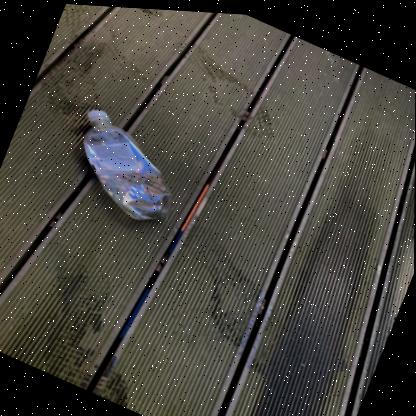Plastic: (82, 108, 170, 218)
